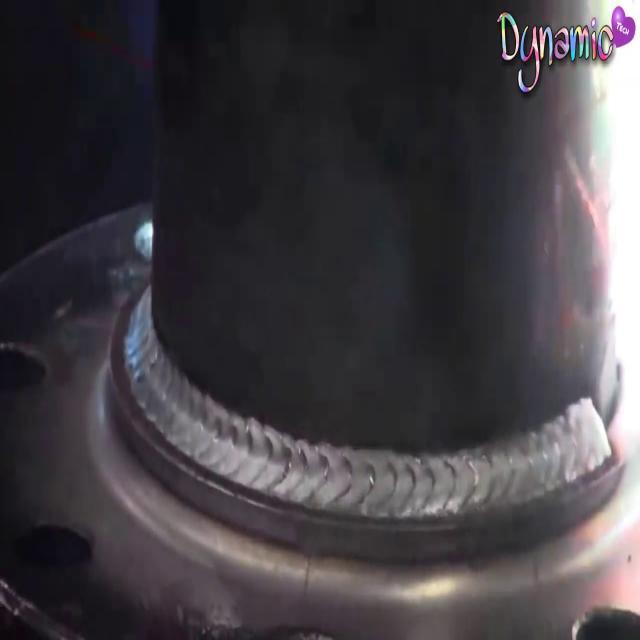Good Welding: (143, 386, 611, 522)
